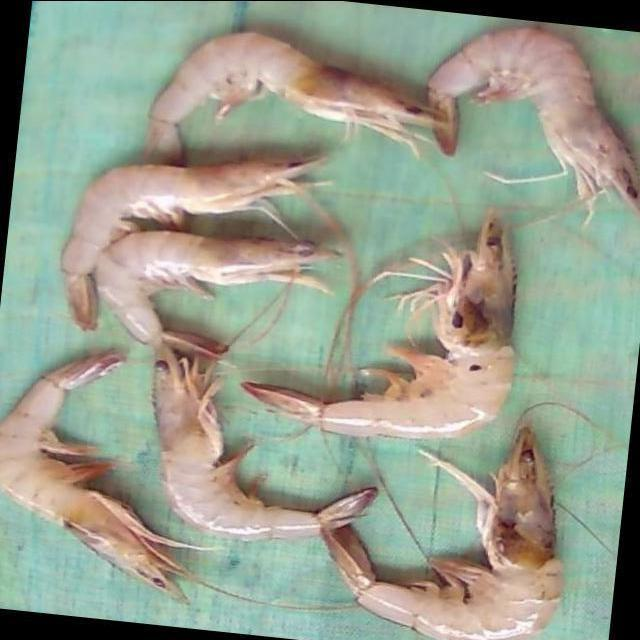shrimp: (243, 211, 515, 438), (0, 352, 208, 603), (321, 427, 563, 640), (60, 157, 325, 330), (152, 344, 374, 540), (143, 31, 448, 163), (429, 26, 640, 213), (92, 229, 339, 359)
